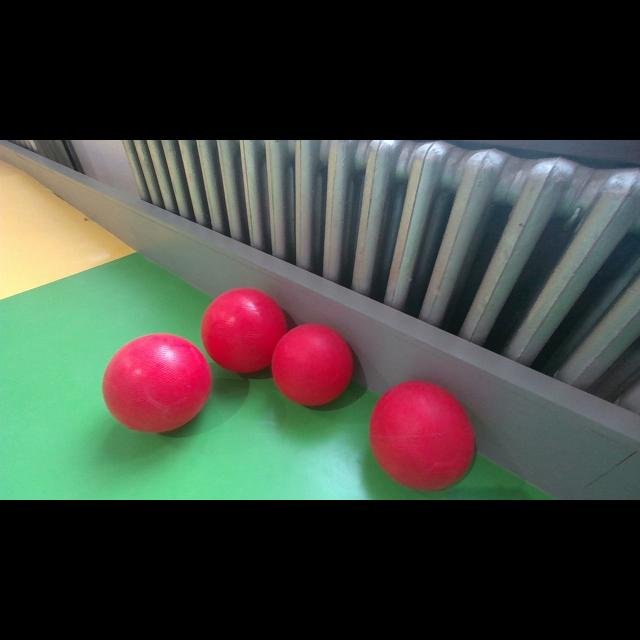R: (370, 381, 476, 491), (102, 333, 212, 433), (201, 288, 287, 372), (271, 322, 355, 406)
